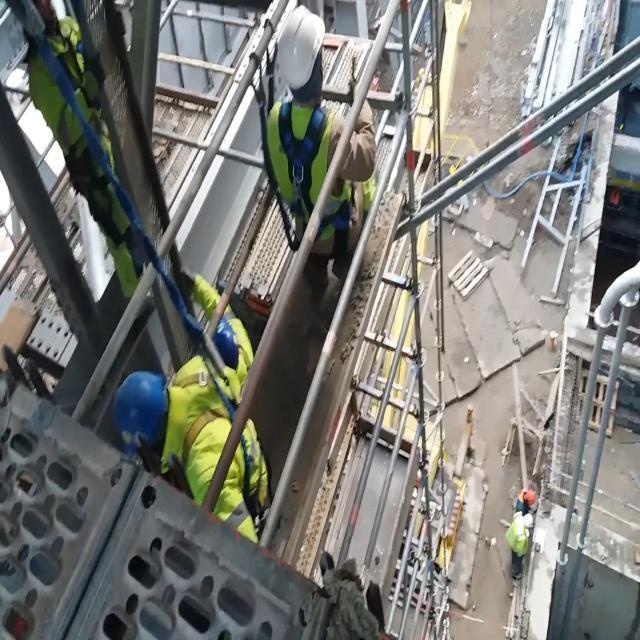Arnes_seguridad: (158, 359, 269, 501), (273, 85, 355, 252)
